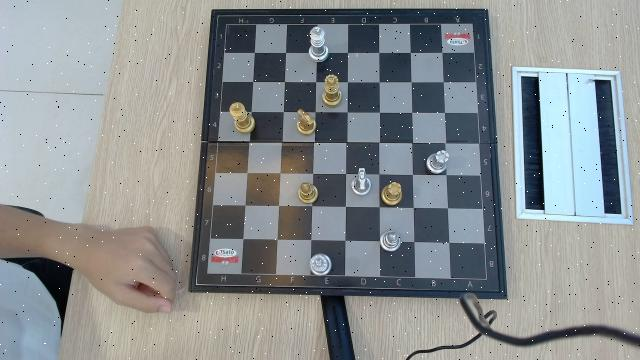black_bishop: (297, 181, 316, 204)
black_king: (228, 103, 257, 133)
black_knight: (295, 110, 317, 136)
black_queen: (322, 74, 343, 107)
black_rook: (380, 182, 403, 206)
white_bishop: (380, 230, 402, 253)
white_king: (307, 26, 328, 62)
white_knight: (350, 168, 370, 196)
white_queen: (310, 255, 334, 277)
white_rook: (425, 150, 450, 175)
